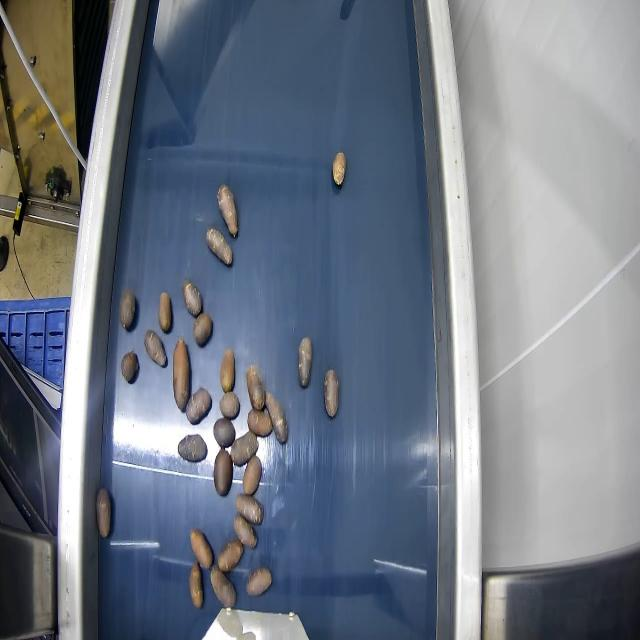Baby Potato: (172, 338, 190, 412), (265, 392, 287, 443), (230, 431, 258, 467), (218, 184, 237, 237), (206, 227, 232, 265), (211, 568, 235, 607), (186, 388, 211, 424), (190, 529, 213, 568), (178, 434, 207, 463), (246, 366, 265, 410), (214, 449, 232, 495), (144, 330, 166, 367), (218, 540, 243, 572), (242, 455, 262, 495), (236, 495, 262, 525), (234, 515, 256, 548), (298, 337, 312, 388), (246, 568, 271, 596), (96, 488, 110, 537), (183, 280, 201, 317), (324, 370, 338, 417), (189, 562, 203, 608), (248, 409, 271, 437), (193, 313, 212, 346), (120, 289, 135, 330), (214, 418, 235, 447), (220, 350, 234, 391), (158, 292, 171, 333), (121, 352, 138, 383), (220, 392, 239, 418), (332, 152, 345, 186)
